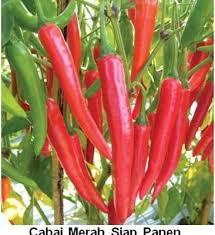Cabai: (33, 35, 194, 197)
